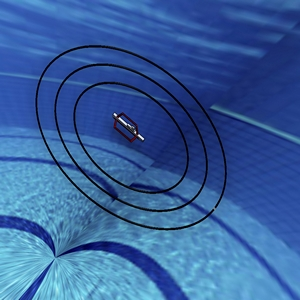circle: (25, 28, 239, 236)
submarine: (108, 106, 149, 152)
